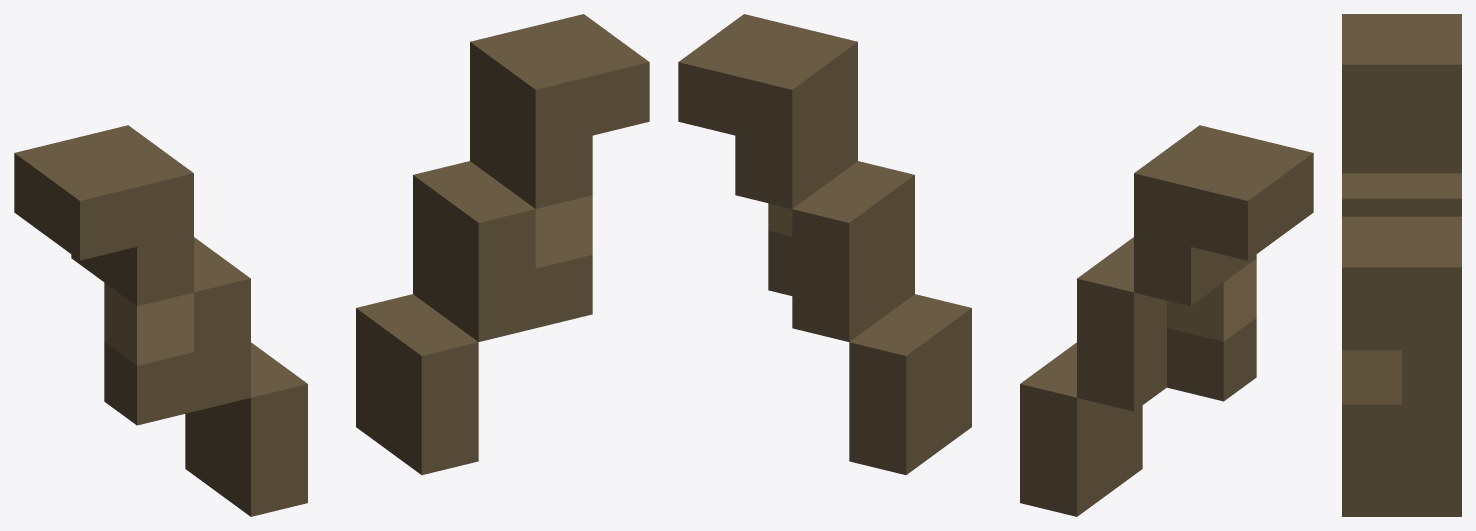
Rendered from antlers.glb.
The picture shows the model from 3 angles, left to right: view 1: azimuth 30°, elevation 25°; view 2: azimuth 150°, elevation 25°; view 3: azimuth 270°, elevation 25°; orthographic projection. The views are drawn at different scales.
Parts seen in each view (by area): view 1: antlers; view 2: antlers; view 3: antlers.
Boxes of the visible parts, x1=… form: antlers: x1=14, y1=14, x2=649, y2=516; antlers: x1=678, y1=14, x2=1313, y2=516; antlers: x1=1342, y1=14, x2=1461, y2=516.
Size of the model in its own units: 1.25 by 0.75 by 0.25.
